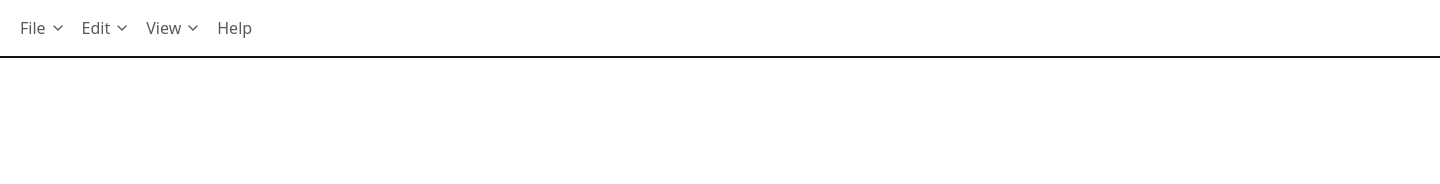
Test: Menubar › menubar mode hover with openOnHover
The image size is (1440, 184).
Hover over the menu item "File".
mouse_move(43, 28)  # box [20, 17, 66, 39]
Wait 150 ms
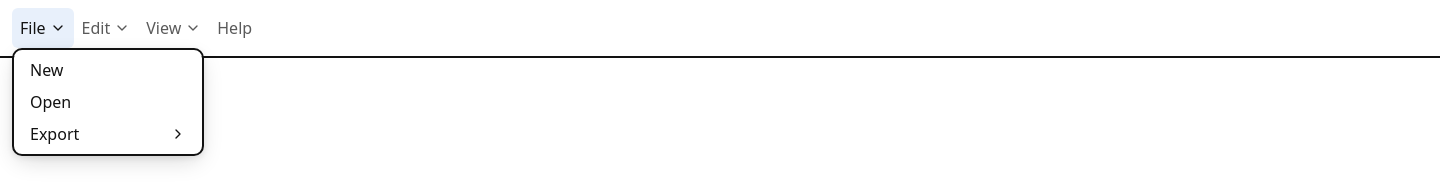
Check: the menu item "File" is expanded, box [12, 8, 74, 48]
Press Escape
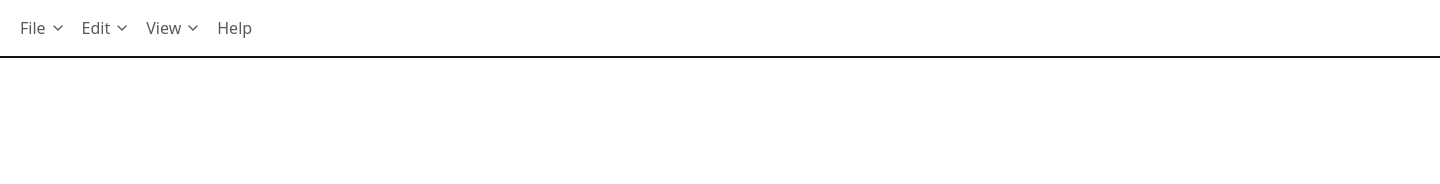
Check: the menu item "File" is collapsed, box [20, 17, 66, 39]
